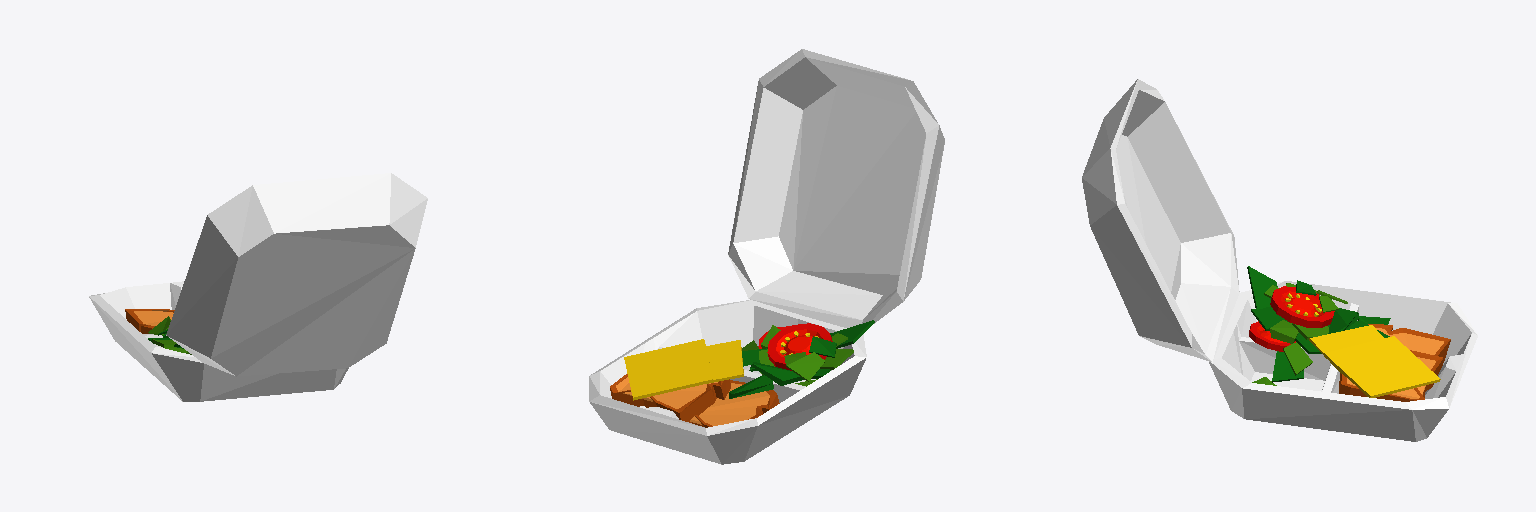
3 renders of one model, left to right at view 1: azimuth 30°, elevation 25°; view 2: azimuth 150°, elevation 25°; view 3: azimuth 270°, elevation 25°, orthographic.
Visible parts, largest first — view 1: group[number redacted], group[number redacted]; view 2: group[number redacted], group[number redacted], group[number redacted], group[number redacted], group[number redacted], group[number redacted], group[number redacted], group[number redacted], group[number redacted]; view 3: group[number redacted], group[number redacted], group[number redacted], group[number redacted], group[number redacted], group[number redacted], group[number redacted], group[number redacted], group[number redacted], group[number redacted].
Part boxes in pixels (x1,y1,x2,y2): group[number redacted]: (89,173,427,401); group[number redacted]: (125,309,174,333); group[number redacted]: (589,49,944,464); group[number redacted]: (624,339,713,400); group[number redacted]: (610,374,730,422); group[number redacted]: (690,380,779,427); group[number redacted]: (767,323,832,370); group[number redacted]: (706,340,743,383); group[number redacted]: (786,352,824,381); group[number redacted]: (750,362,804,385); group[number redacted]: (729,375,773,398); group[number redacted]: (1082,79,1477,441); group[number redacted]: (1324,336,1440,397); group[number redacted]: (1270,286,1334,327); group[number redacted]: (1368,324,1450,397); group[number redacted]: (1339,350,1443,401); group[number redacted]: (1309,325,1383,376); group[number redacted]: (1247,266,1277,309); group[number redacted]: (1249,321,1295,351); group[number redacted]: (1272,351,1303,382); group[number redacted]: (1283,342,1312,375).
Size of the model in its own units: 0.909 by 1.09 by 1.39.